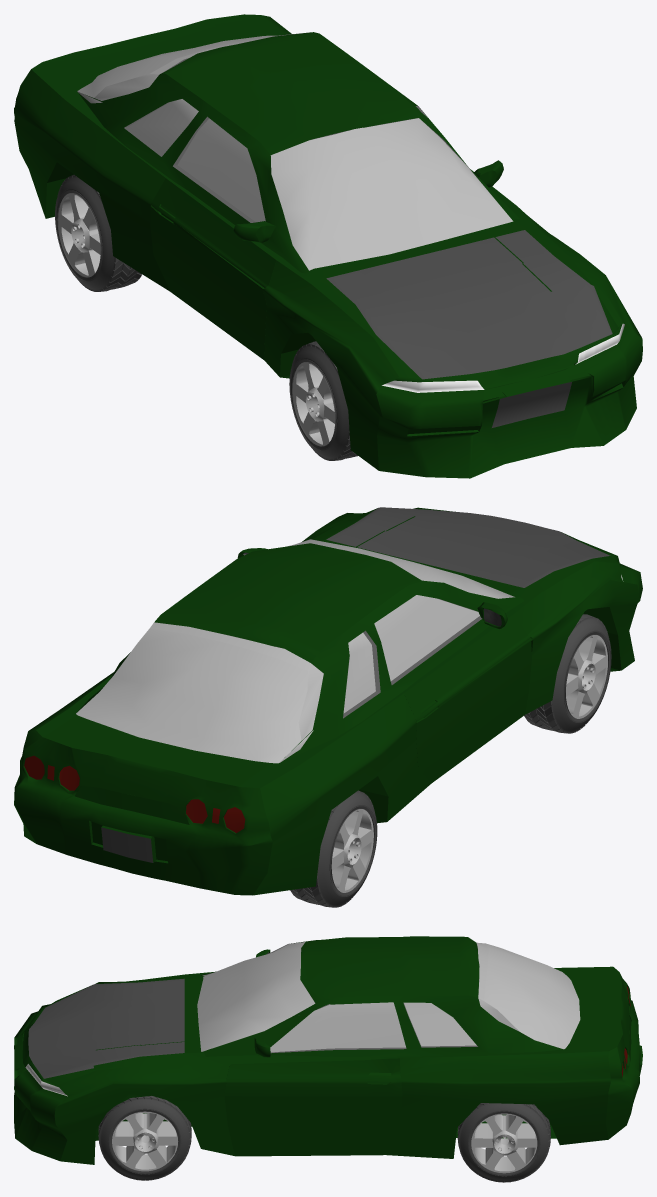
3 renders of one model, top to bottom at view 1: azimuth 30°, elevation 25°; view 2: azimuth 150°, elevation 25°; view 3: azimuth 270°, elevation 25°, orthographic. The views are drawn at different scales.
Parts seen in each view (by area): view 1: R32_car:pCube2, R32_car:Tire.002, R32_car:Tire.001, R32_car:Rim1.002, R32_car:Rim1.001; view 2: R32_car:pCube2, R32_car:Tire.001, R32_car:Tire.002, R32_car:Rim1.002, R32_car:Rim1.001; view 3: R32_car:pCube2, R32_car:Tire, R32_car:Rim1.003, R32_car:Rim1, R32_car:Tire.003.
Boxes of the visible parts, x1=… form: R32_car:pCube2: x1=14, y1=14, x2=642, y2=478; R32_car:Tire.002: x1=55, y1=175, x2=141, y2=291; R32_car:Tire.001: x1=289, y1=341, x2=357, y2=460; R32_car:Rim1.002: x1=58, y1=193, x2=100, y2=277; R32_car:Rim1.001: x1=293, y1=362, x2=335, y2=446; R32_car:pCube2: x1=14, y1=507, x2=642, y2=895; R32_car:Tire.001: x1=524, y1=614, x2=611, y2=733; R32_car:Tire.002: x1=290, y1=790, x2=377, y2=907; R32_car:Rim1.002: x1=331, y1=809, x2=373, y2=892; R32_car:Rim1.001: x1=566, y1=635, x2=607, y2=718; R32_car:pCube2: x1=14, y1=936, x2=642, y2=1164; R32_car:Tire: x1=98, y1=1096, x2=191, y2=1180; R32_car:Rim1.003: x1=471, y1=1113, x2=537, y2=1173; R32_car:Rim1: x1=112, y1=1111, x2=178, y2=1171; R32_car:Tire.003: x1=457, y1=1103, x2=550, y2=1182.
Size of the model in its own units: 0.0521 by 0.0413 by 0.1333.
